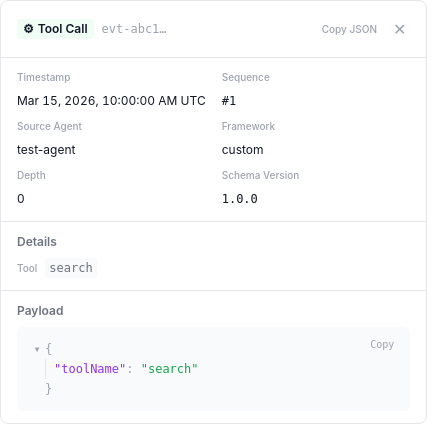
Test: EventDetailPanel › copies full event JSON to clipboard
Click the button with aria-label "Copy event JSON".
click(349, 29)  # box [314, 18, 385, 40]
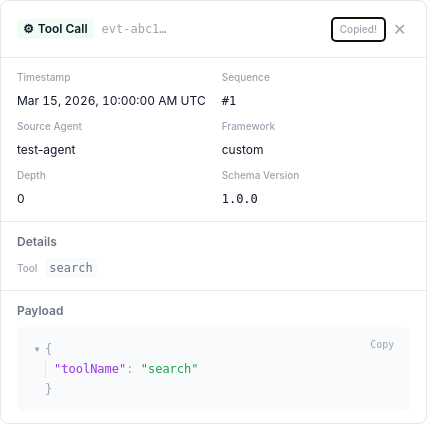
Check: the button with aria-label "Copy event JSON" reads "Copied!", box [332, 18, 385, 40]
